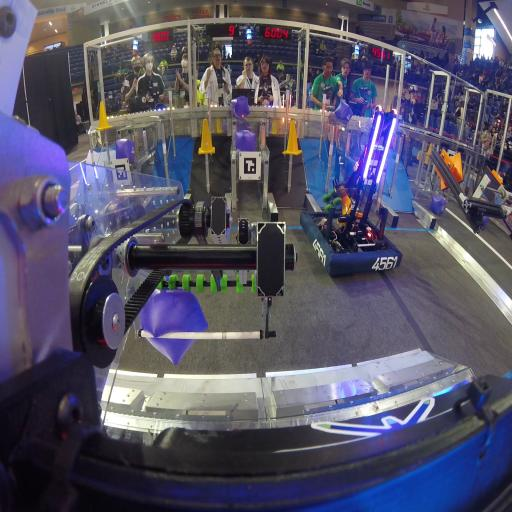robot: (318, 145, 400, 280)
